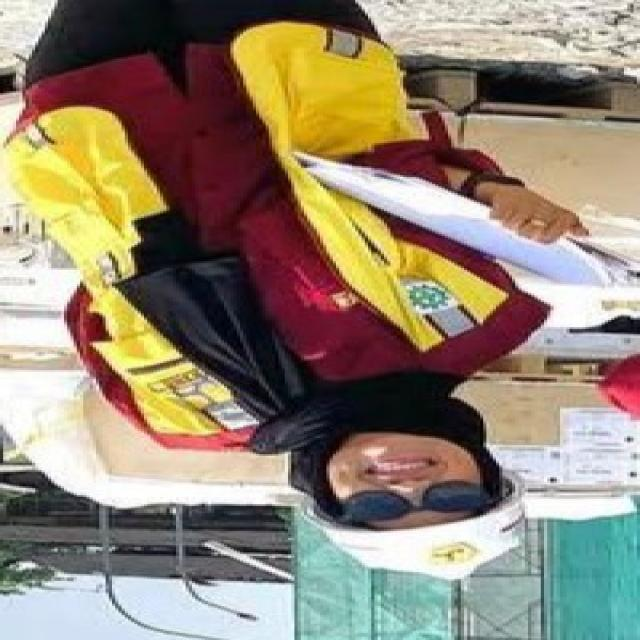safetyhelmet: (311, 420, 538, 588)
